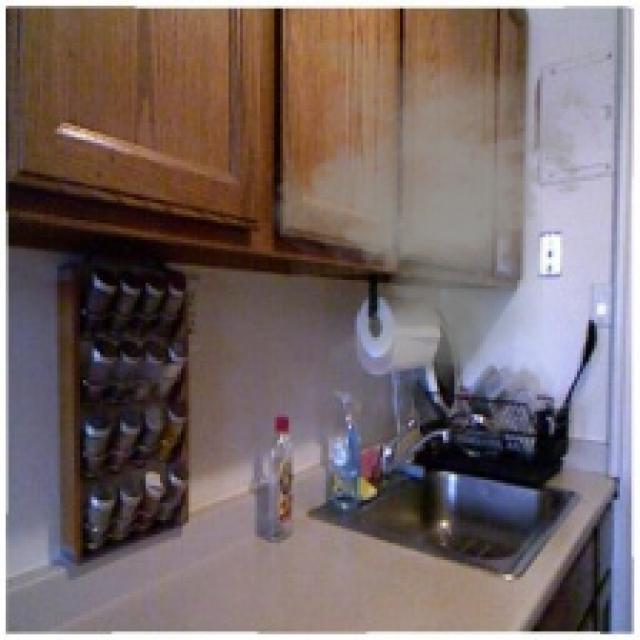smoke: (257, 37, 606, 386)
